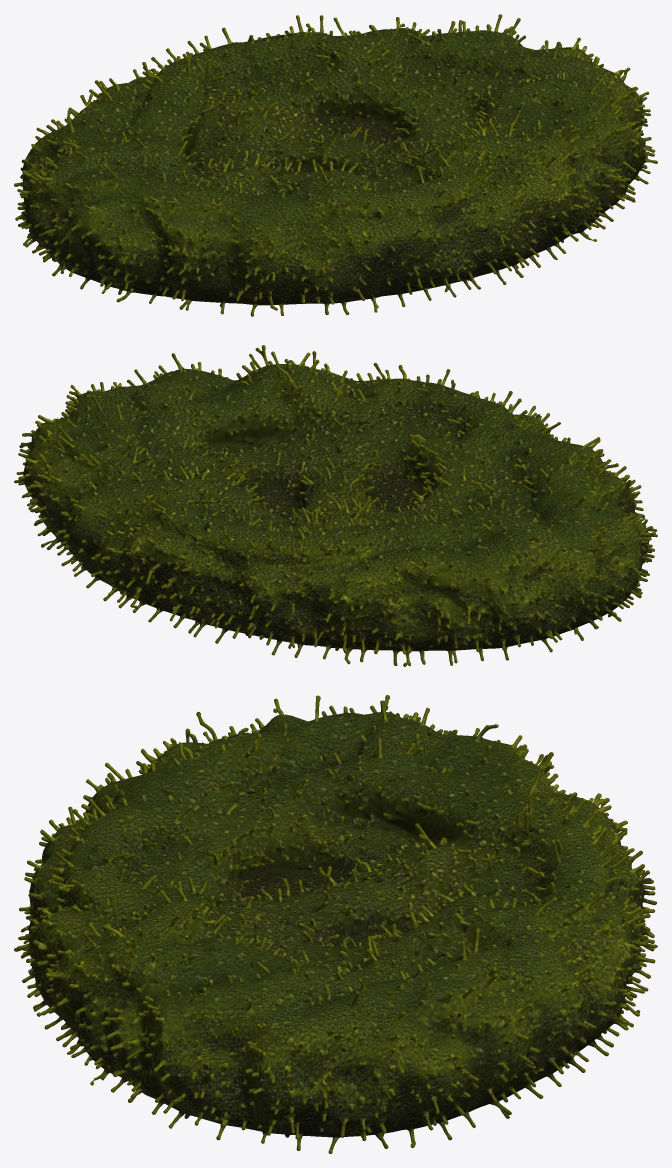
File: Moss Pad.glb
3 renders of one model, top to bottom at view 1: azimuth 30°, elevation 25°; view 2: azimuth 150°, elevation 25°; view 3: azimuth 270°, elevation 25°, orthographic. The views are drawn at different scales.
Visible parts, largest first — view 1: tripo_node_0fc331c7-194c-4311-8eaf-6e05e30a9d44; view 2: tripo_node_0fc331c7-194c-4311-8eaf-6e05e30a9d44; view 3: tripo_node_0fc331c7-194c-4311-8eaf-6e05e30a9d44.
Part boxes in pixels (x1,y1,x2,y2): tripo_node_0fc331c7-194c-4311-8eaf-6e05e30a9d44: [14, 14, 657, 316]; tripo_node_0fc331c7-194c-4311-8eaf-6e05e30a9d44: [14, 345, 657, 666]; tripo_node_0fc331c7-194c-4311-8eaf-6e05e30a9d44: [14, 695, 657, 1153].
Bounding box in the file's own units: 0.9999 × 0.1894 × 0.7358.
Materials: 1 (1 with a texture image).
